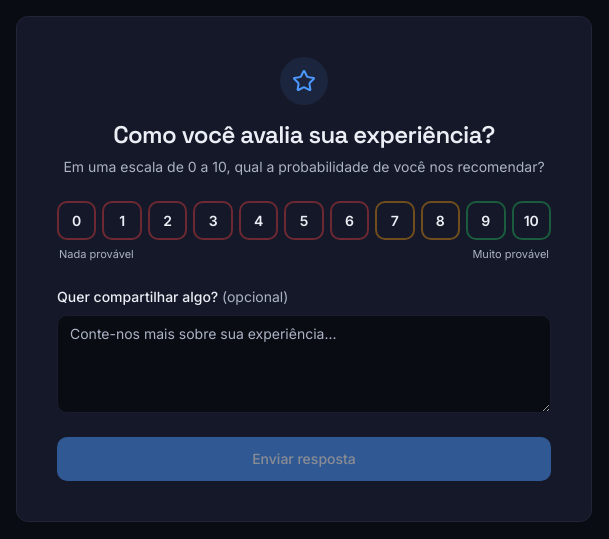
Resposta pública de pesquisa › envia NPS zero e só confirma após persistência
Click the button named "Nota 0" at (77, 221), box [57, 201, 96, 240]
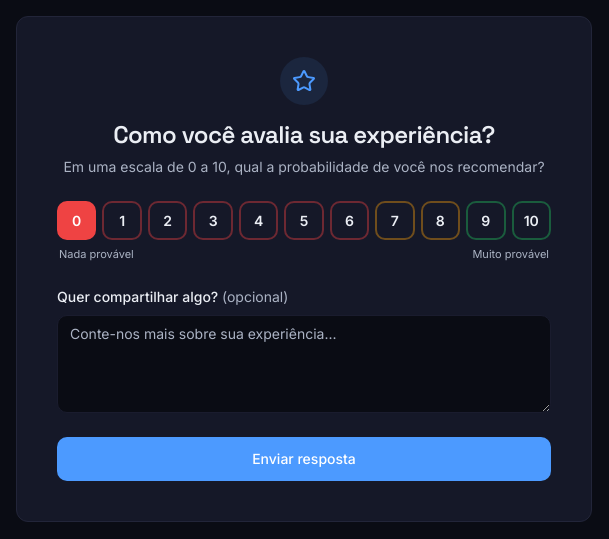
Click the button "Enviar resposta" at (304, 459), box [57, 437, 551, 481]
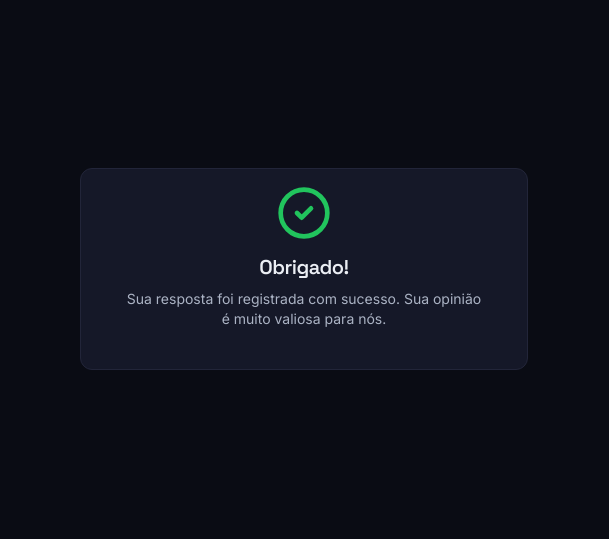
Check: the heading "Obrigado!" is shown, box [259, 254, 349, 280]
